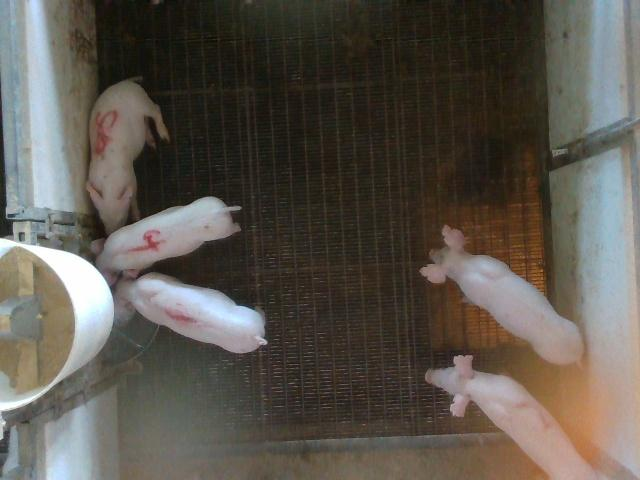pig-1: (119, 272, 268, 353)
pig-2: (425, 355, 604, 479)
pig-4: (96, 196, 241, 274)
pig-5: (86, 78, 170, 234)
